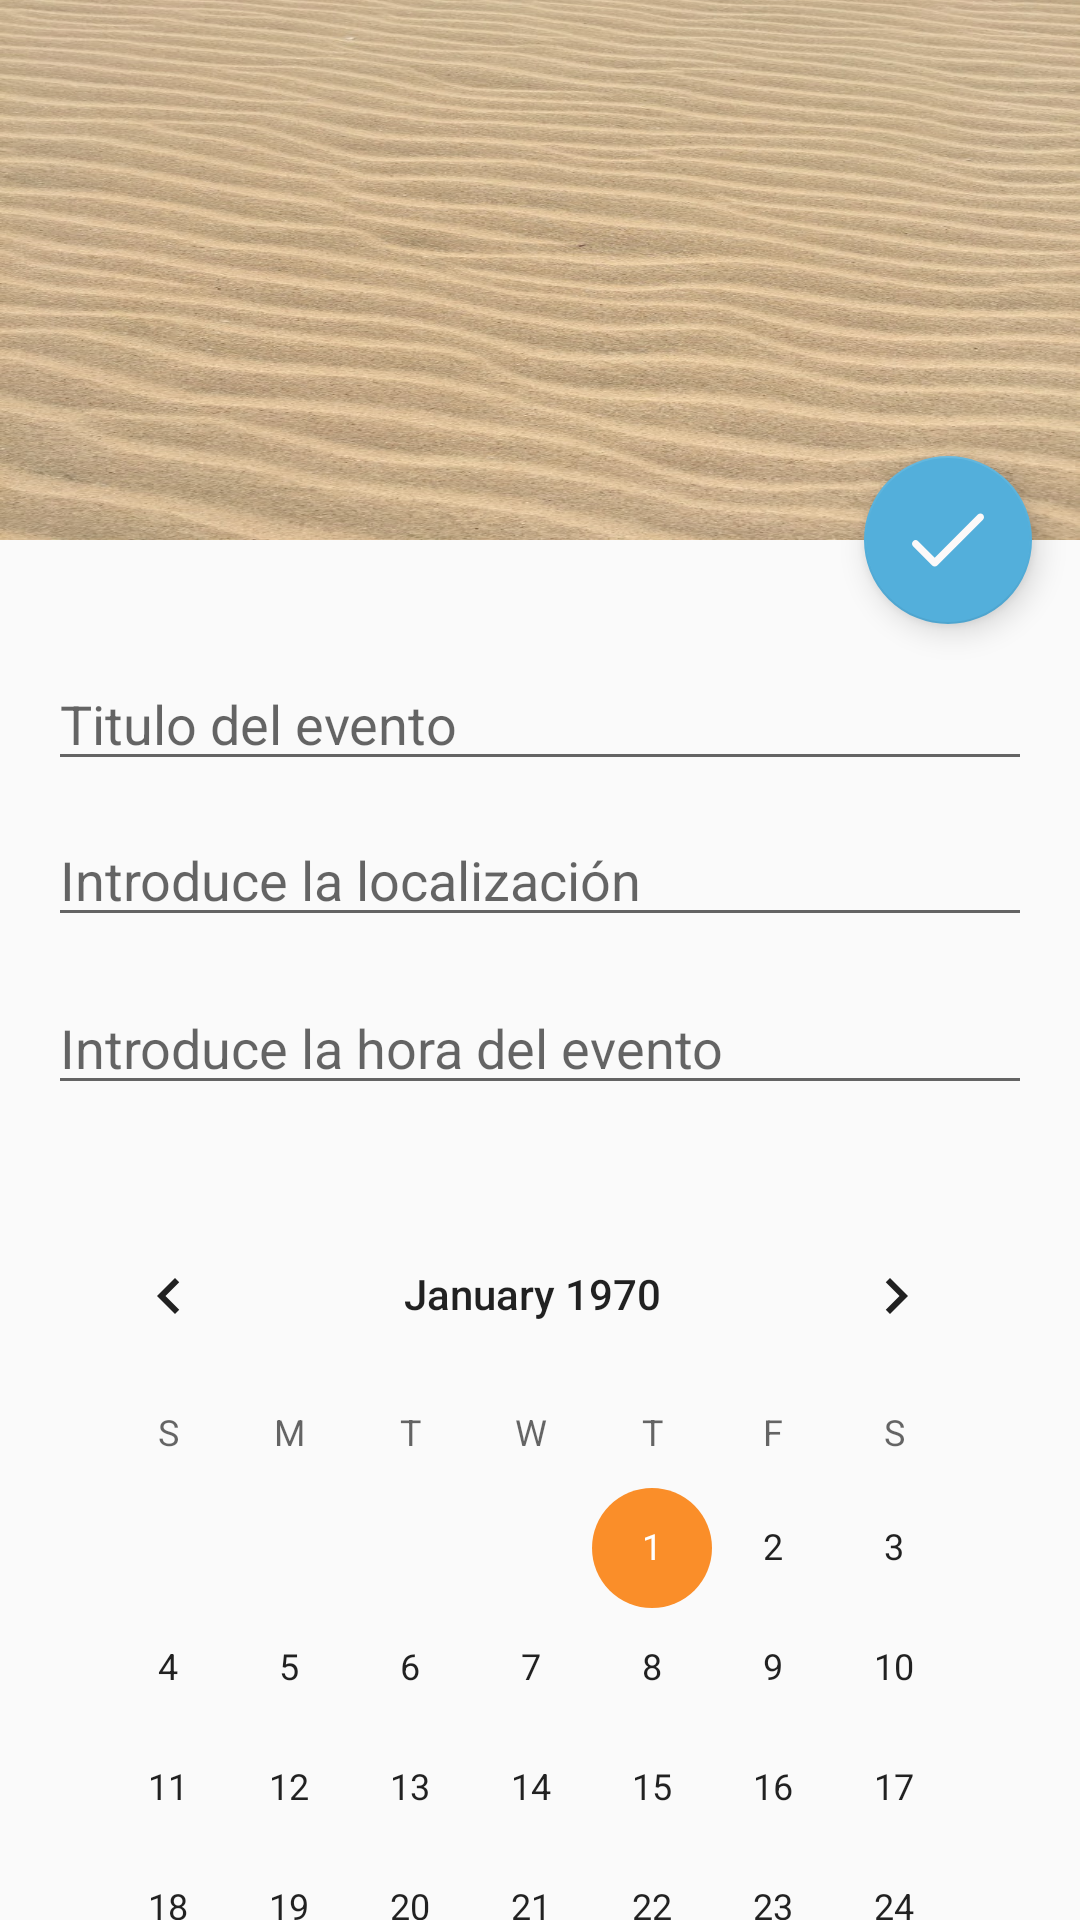

Screen size 1080×1920. Icon name, then its center in pixels as [x,y]:
tick: [948,540]
